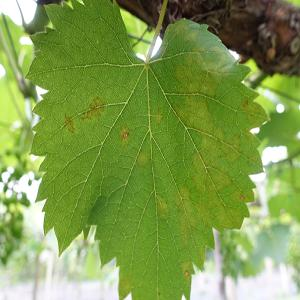Folha: (25, 0, 269, 299)
Fungo: (88, 96, 104, 116), (64, 112, 76, 134), (136, 148, 149, 167), (120, 125, 130, 146), (154, 108, 163, 125), (122, 130, 129, 138)
